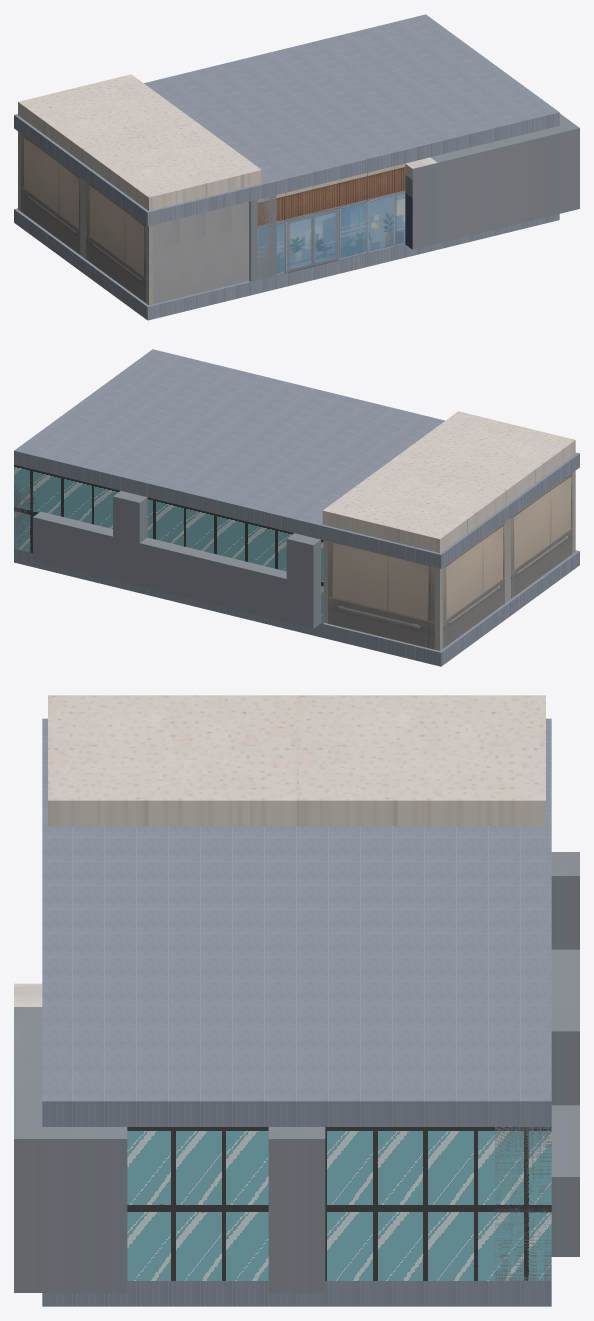
The model's file is OFFICE (2).glb.
3 renders of one model, top to bottom at view 1: azimuth 30°, elevation 25°; view 2: azimuth 150°, elevation 25°; view 3: azimuth 270°, elevation 25°, orthographic. The views are drawn at different scales.
Parts seen in each view (by area): view 1: Floor-Office.002, Elevator.001, Plane.009, Fireexit-stairs.001, Floor-Office.001, Floor-Office; view 2: Floor-Office.002, Fireexit-stairs.001, Plane.009, Elevator.001, Floor-Office.001, Floor-Office; view 3: Floor-Office.002, Floor-Office.001, Plane.009, Fireexit-stairs.001, Elevator.001, Floor-Office.
Boxes of the visible parts, x1,y1,x2,y2 form: Floor-Office.002: (14, 14, 559, 225); Elevator.001: (83, 122, 261, 305); Plane.009: (249, 113, 579, 281); Fireexit-stairs.001: (18, 74, 196, 256); Floor-Office.001: (257, 163, 405, 279); Floor-Office: (14, 208, 559, 320); Floor-Office.002: (14, 349, 579, 568); Fireexit-stairs.001: (322, 461, 507, 650); Plane.009: (14, 470, 320, 628); Elevator.001: (391, 411, 575, 600); Floor-Office.001: (14, 465, 323, 623); Floor-Office: (14, 548, 579, 666); Floor-Office.002: (42, 718, 551, 1126); Floor-Office.001: (127, 1127, 551, 1280); Plane.009: (14, 852, 579, 1292); Fireexit-stairs.001: (297, 695, 545, 826); Elevator.001: (48, 695, 296, 826); Floor-Office: (42, 1281, 551, 1306).
Size of the model in its own units: 16.5 by 4.5 by 10.
8 materials, 6 textured.
